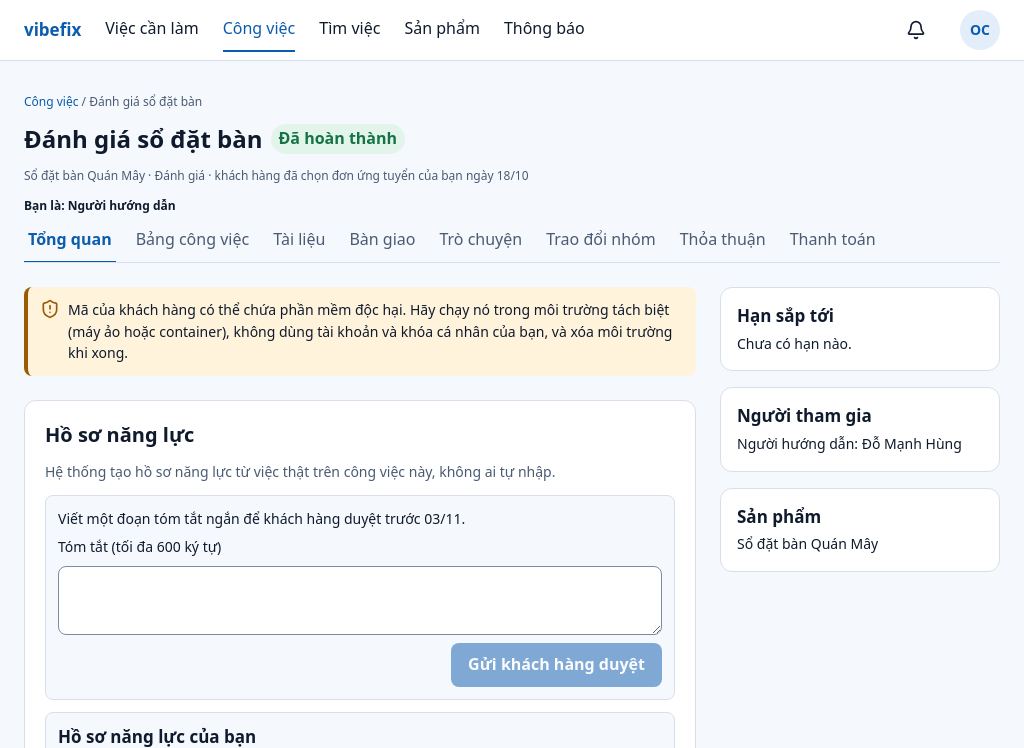
JOB-1 portfolio section (FR-50, UX-DR55) › lets the Mentor draft the summary and shows their own entry
This screenshot has width=1024, height=748.
Type "Nhóm đánh giá toàn bộ luồng." into the text box labelled "Tóm tắt (tối đa 600 ký tự)".
click(360, 600); type("Nhóm đánh giá toàn bộ luồng.")  # box [58,566,662,635]
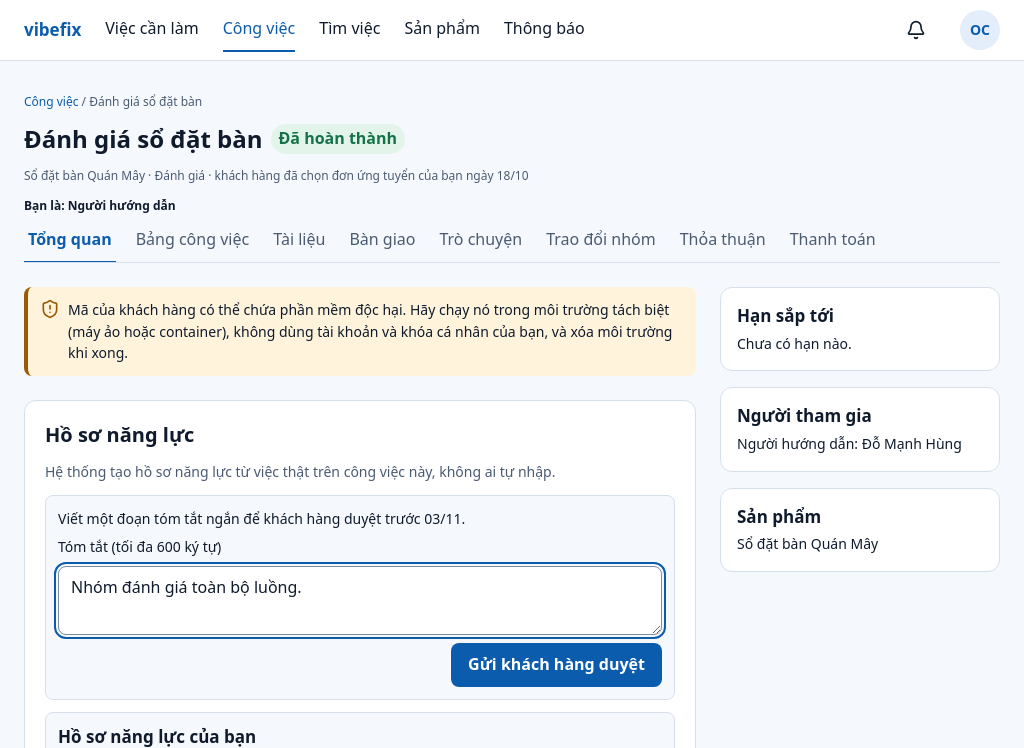
Click the button "Gửi khách hàng duyệt".
click(557, 665)  # box [451,643,662,687]
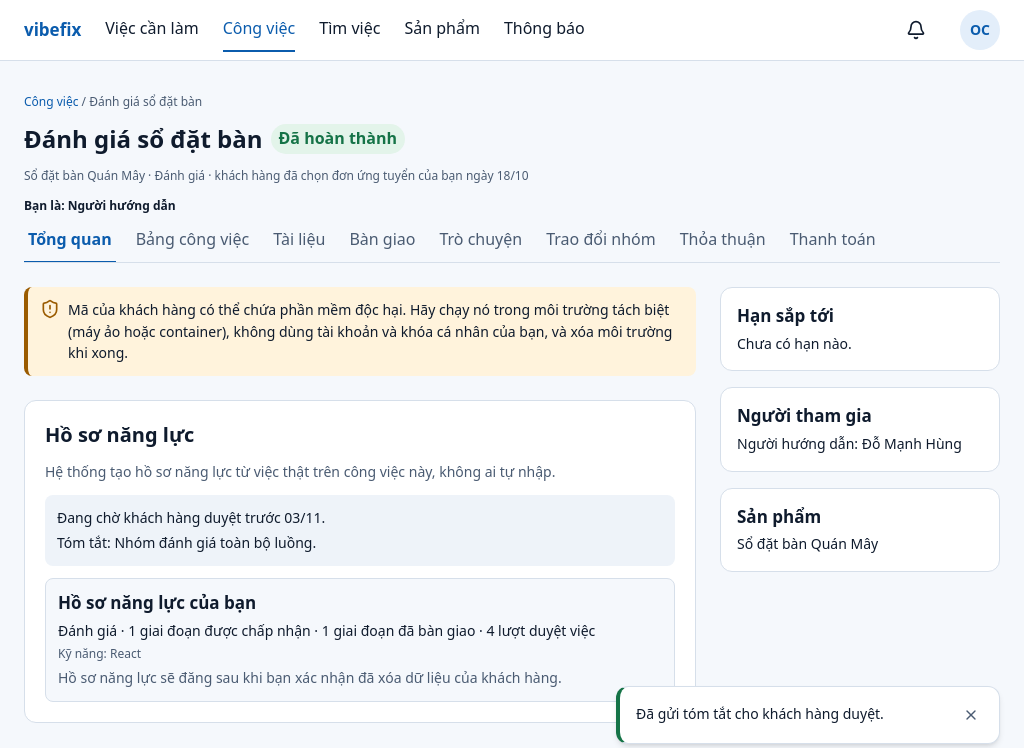
Expected: the text "Đang chờ khách hàng duyệt trước 03/11." is shown, [57,508,325,527]
Expected: the text "Nhóm đánh giá toàn bộ luồng." is shown, [114,533,316,552]
